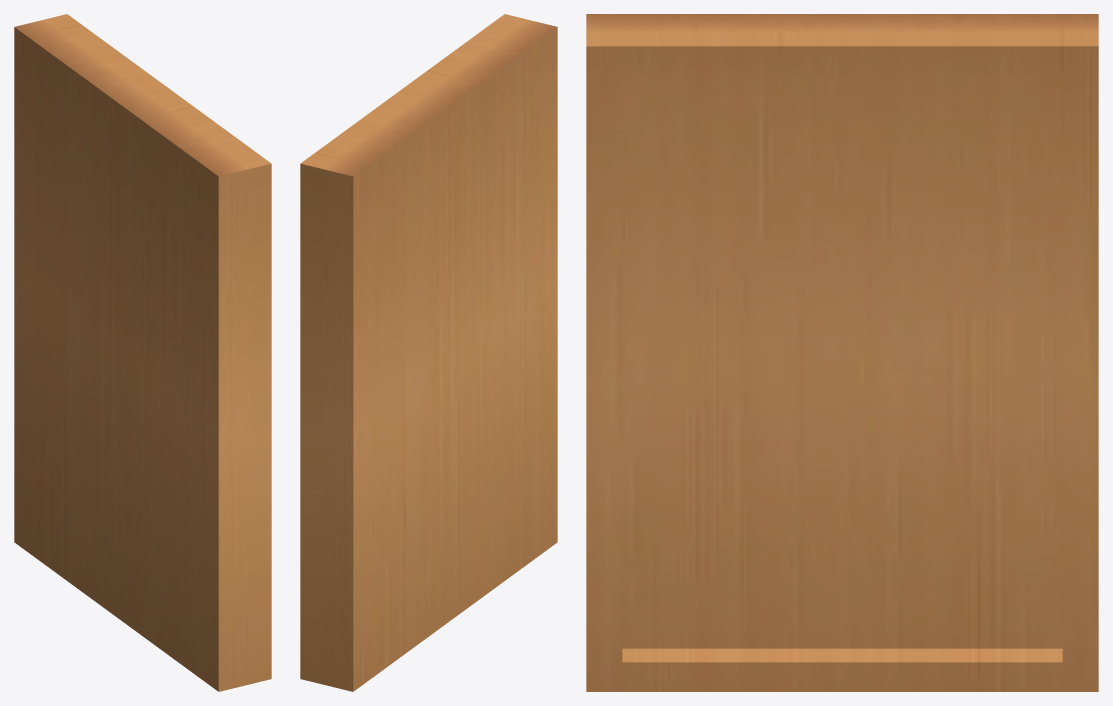
Rendered from Poster Frame 10.fbx.
3 views of the same model, side by side, from view 1: azimuth 30°, elevation 25°; view 2: azimuth 150°, elevation 25°; view 3: azimuth 270°, elevation 25° (orthographic). The views are drawn at different scales.
Visible parts, largest first — view 1: Cube; view 2: Cube; view 3: Cube.
Part boxes in pixels (box(x1,y1,x2,y2)): Cube: box(14, 14, 271, 691); Cube: box(300, 14, 557, 691); Cube: box(586, 14, 1098, 691).
Size of the model in its own units: 115 by 1074 by 772.
1 material, 1 textured.
